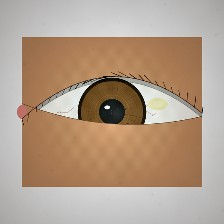pinguecula_lesion: (138, 89, 177, 120)
